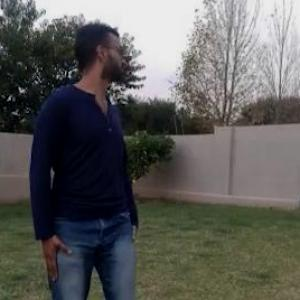follow: (30, 17, 147, 299)
